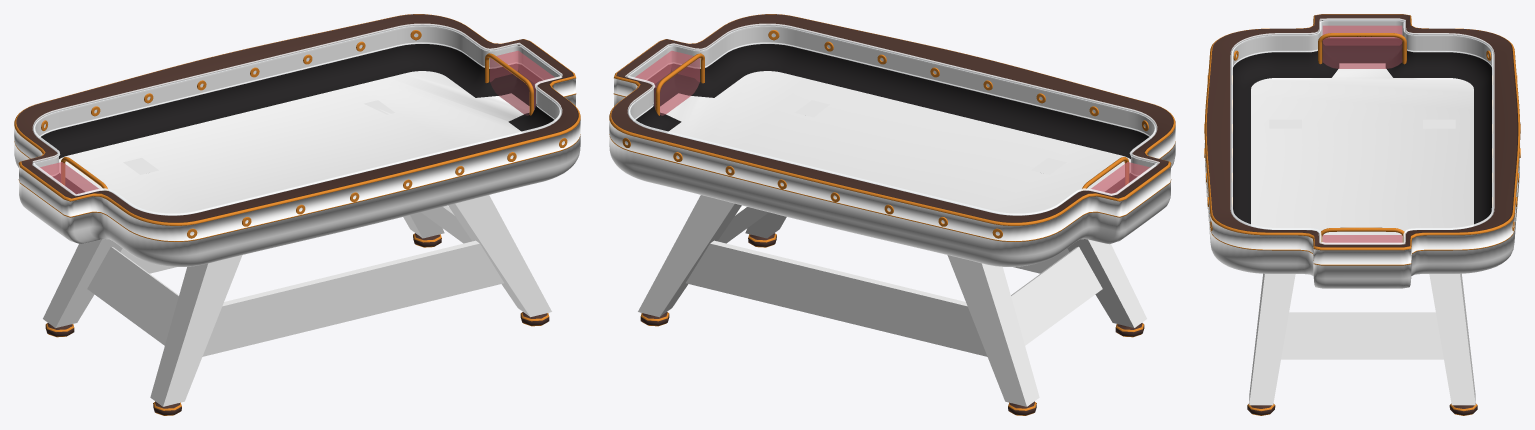
Rendered from geometry-reference.glb.
3 renders of one model, left to right at view 1: azimuth 30°, elevation 25°; view 2: azimuth 150°, elevation 25°; view 3: azimuth 270°, elevation 25°, orthographic. The views are drawn at different scales.
Visible parts, largest first — view 1: arena_bowl.001, table_leg_.001, off_led_ring.001, goal_net_right.001, goal_net_left.001, goal_frame_l.002; view 2: arena_bowl.001, table_leg_.001, off_led_ring.001, goal_net_right.001, goal_net_left.001, goal_frame_l.002; view 3: arena_bowl.001, table_leg_.001, goal_net_left.001, off_led_ring.001, goal_net_right.001, goal_frame_r.001, goal_frame_l.002.
Part boxes in pixels (x1=…): arena_bowl.001: x1=14, y1=14, x2=580, y2=266; table_leg_.001: x1=43, y1=100, x2=551, y2=415; off_led_ring.001: x1=32, y1=23, x2=562, y2=215; goal_net_right.001: x1=490, y1=50, x2=554, y2=115; goal_net_left.001: x1=40, y1=162, x2=98, y2=194; goal_frame_l.002: x1=485, y1=53, x2=533, y2=115; arena_bowl.001: x1=609, y1=14, x2=1175, y2=266; table_leg_.001: x1=638, y1=100, x2=1146, y2=415; off_led_ring.001: x1=625, y1=23, x2=1159, y2=215; goal_net_right.001: x1=635, y1=50, x2=699, y2=115; goal_net_left.001: x1=1091, y1=162, x2=1149, y2=193; goal_frame_l.002: x1=655, y1=53, x2=704, y2=115; arena_bowl.001: x1=1204, y1=14, x2=1520, y2=288; table_leg_.001: x1=1247, y1=119, x2=1477, y2=415; goal_net_left.001: x1=1322, y1=25, x2=1402, y2=68; off_led_ring.001: x1=1230, y1=18, x2=1494, y2=244; goal_net_right.001: x1=1322, y1=235, x2=1402, y2=242; goal_frame_r.001: x1=1318, y1=33, x2=1406, y2=64; goal_frame_l.002: x1=1320, y1=227, x2=1404, y2=242.
Size of the model in its own units: 145 by 56.63 by 82.32.
